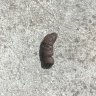Dog: (39, 33, 56, 66)
